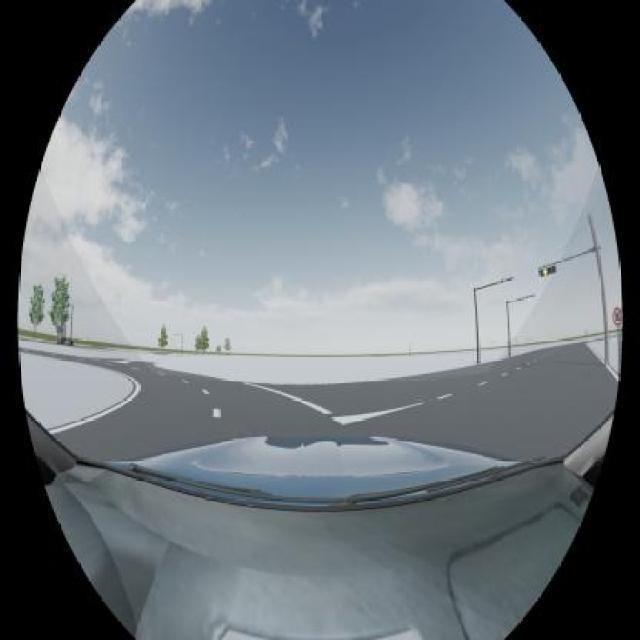forb_speed_over_100: (613, 308, 622, 325)
